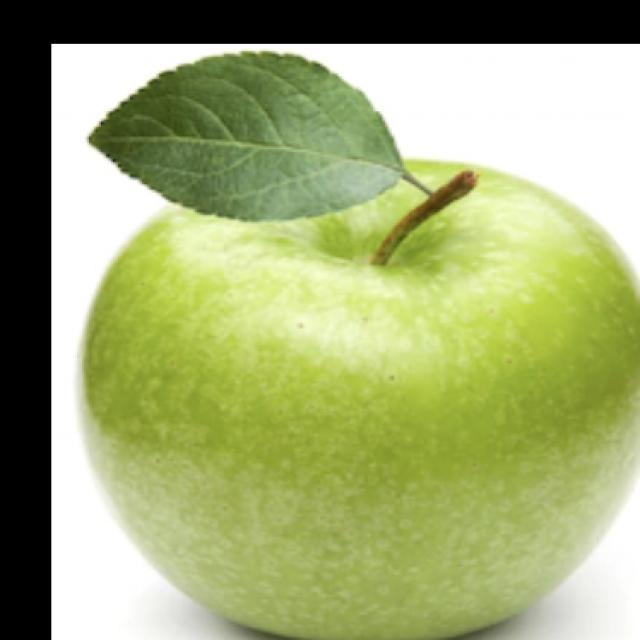Fresh Apple: (91, 178, 639, 640)
